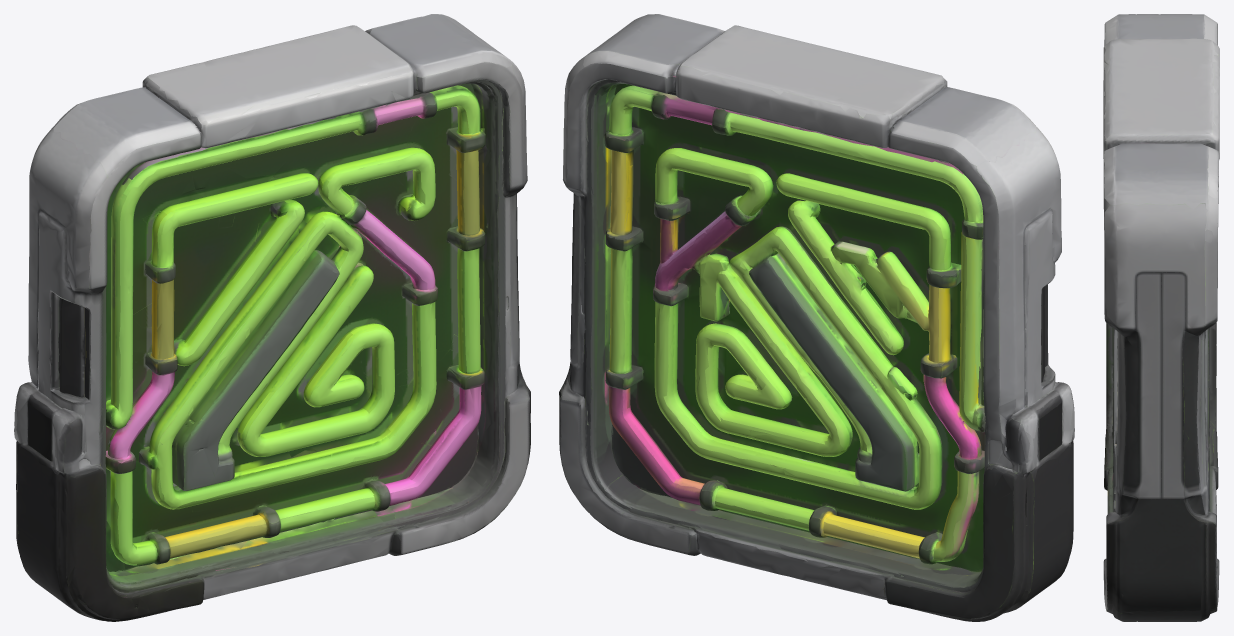
Rendered from u_prp_neon_sign.glb.
3 views of the same model, side by side, from view 1: azimuth 30°, elevation 25°; view 2: azimuth 150°, elevation 25°; view 3: azimuth 270°, elevation 25° (orthographic). The views are drawn at different scales.
Visible parts, largest first — view 1: geometry_0; view 2: geometry_0; view 3: geometry_0.
Part boxes in pixels (x1,y1,x2,y2): geometry_0: (14,14,530,621); geometry_0: (559,14,1074,621); geometry_0: (1103,14,1219,621).
Size of the model in its own units: 0.3 by 0.3001 by 0.069.
Materials: 1 (1 with a texture image).
